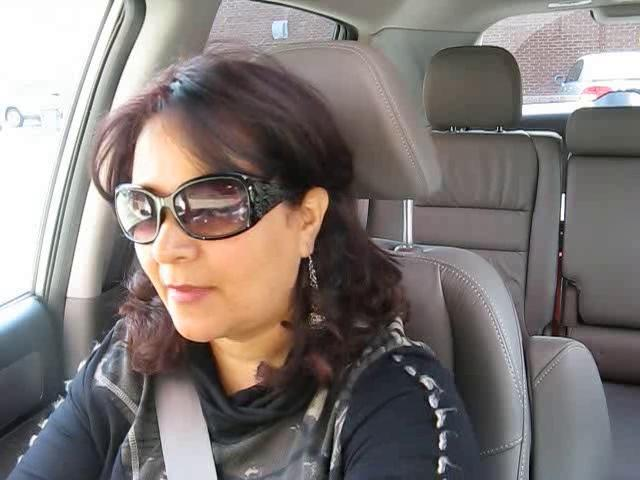no_yawn: (149, 272, 232, 316)
